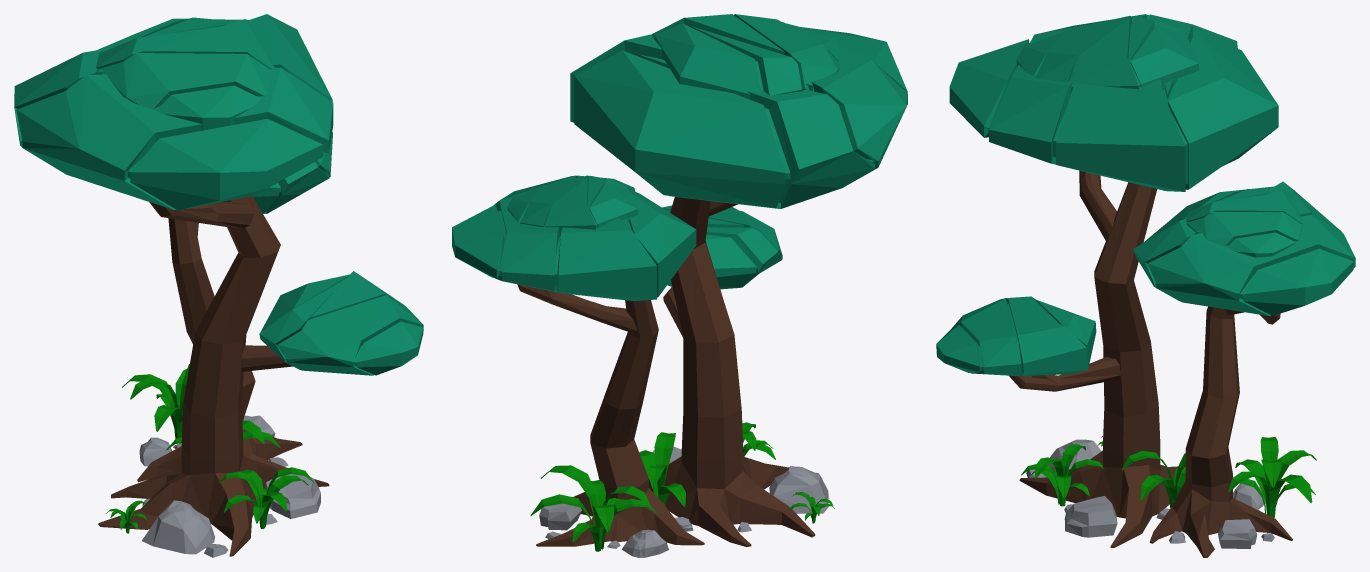
The model's file is SM_Double_Tree_With_Rocks.fbx.
3 renders of one model, left to right at view 1: azimuth 30°, elevation 25°; view 2: azimuth 150°, elevation 25°; view 3: azimuth 270°, elevation 25°, orthographic. The views are drawn at different scales.
Parts seen in each view (by area): view 1: SM_Double_Tree_With_Rocks; view 2: SM_Double_Tree_With_Rocks; view 3: SM_Double_Tree_With_Rocks.
Boxes of the visible parts, bbox=[...] form: SM_Double_Tree_With_Rocks: bbox=[14, 14, 423, 557]; SM_Double_Tree_With_Rocks: bbox=[452, 14, 907, 557]; SM_Double_Tree_With_Rocks: bbox=[936, 14, 1355, 557].
Size of the model in its own units: 172 by 227 by 190.
